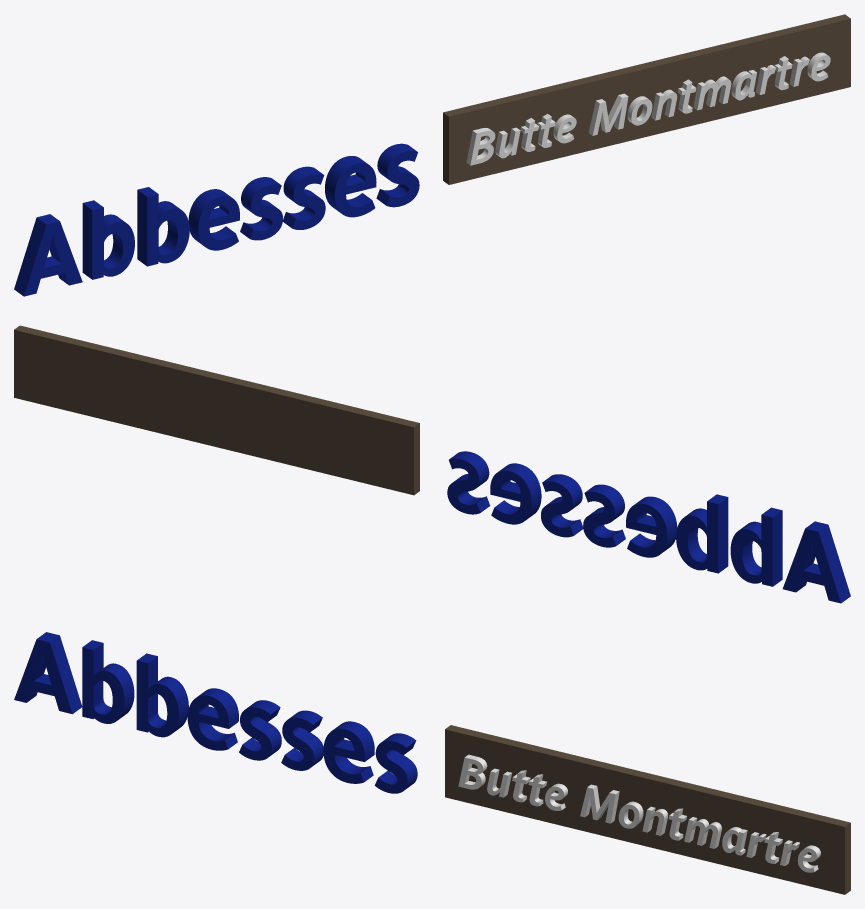
Rendered from StationAbbesses.glb.
The picture shows the model from 3 angles, top to bottom: view 1: azimuth 30°, elevation 25°; view 2: azimuth 150°, elevation 25°; view 3: azimuth 330°, elevation 25°; orthographic projection.
Visible parts, largest first — view 1: StationAbbesses; view 2: StationAbbesses; view 3: StationAbbesses.
Boxes of the visible parts, left/top/right/bottom form: StationAbbesses: left=14, top=14, right=850, bottom=296; StationAbbesses: left=14, top=325, right=850, bottom=603; StationAbbesses: left=14, top=632, right=850, bottom=894.
Bounding box in the file's own units: 2.42 × 0.2054 × 0.05.
